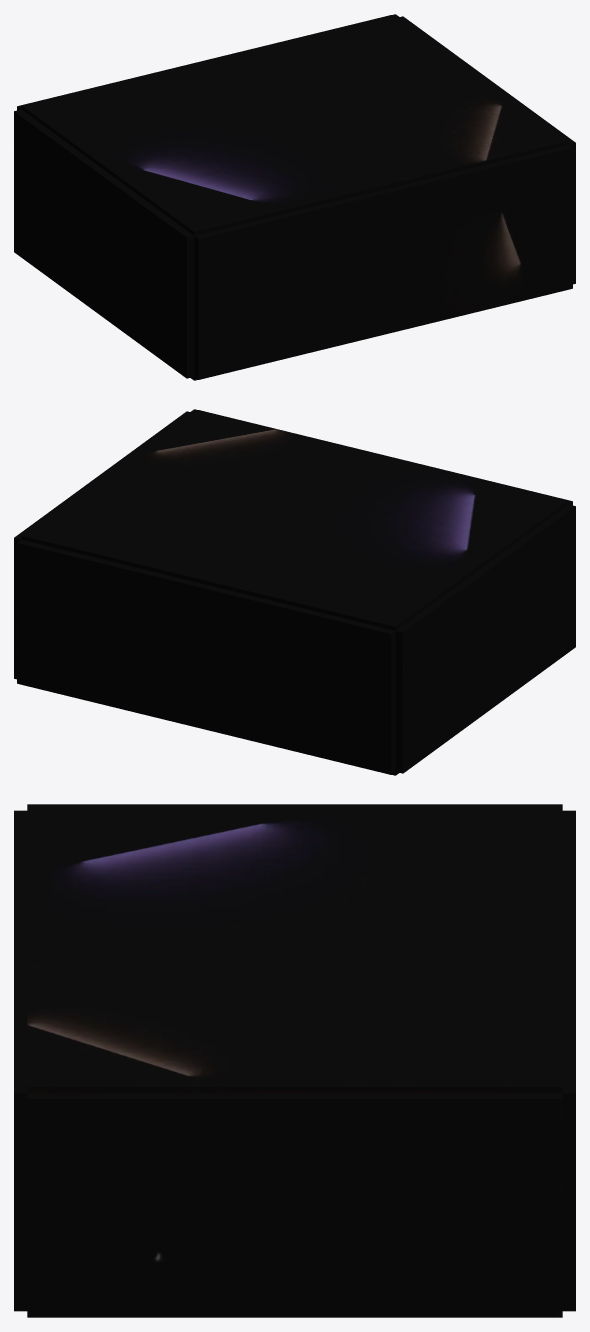
The model's file is studio.glb.
3 views of the same model, one above another, from view 1: azimuth 30°, elevation 25°; view 2: azimuth 150°, elevation 25°; view 3: azimuth 270°, elevation 25° (orthographic). The views are drawn at different scales.
Parts seen in each view (by area): view 1: bake_room; view 2: bake_room; view 3: bake_room.
Boxes of the visible parts, bbox=[...] form: bake_room: bbox=[14, 14, 575, 380]; bake_room: bbox=[14, 409, 575, 775]; bake_room: bbox=[14, 804, 575, 1317].
Size of the model in its own units: 10.4 by 3.8 by 8.4.
Materials: 35 (25 with a texture image).
